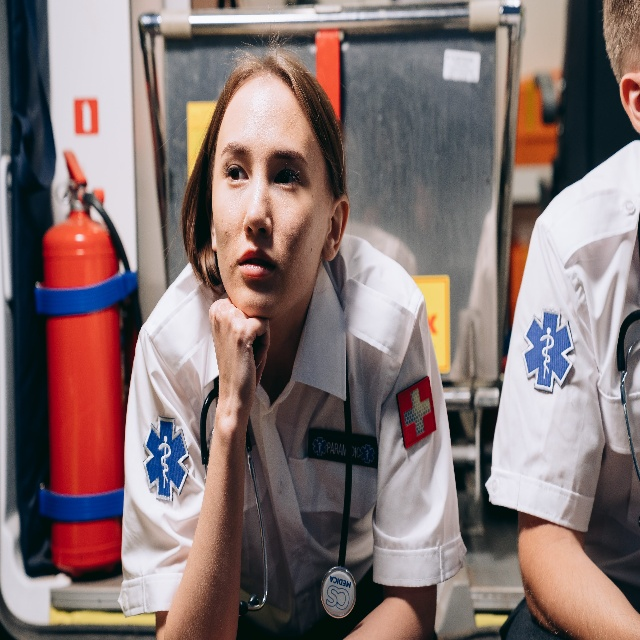Sin_guantes: (210, 296, 273, 395)
